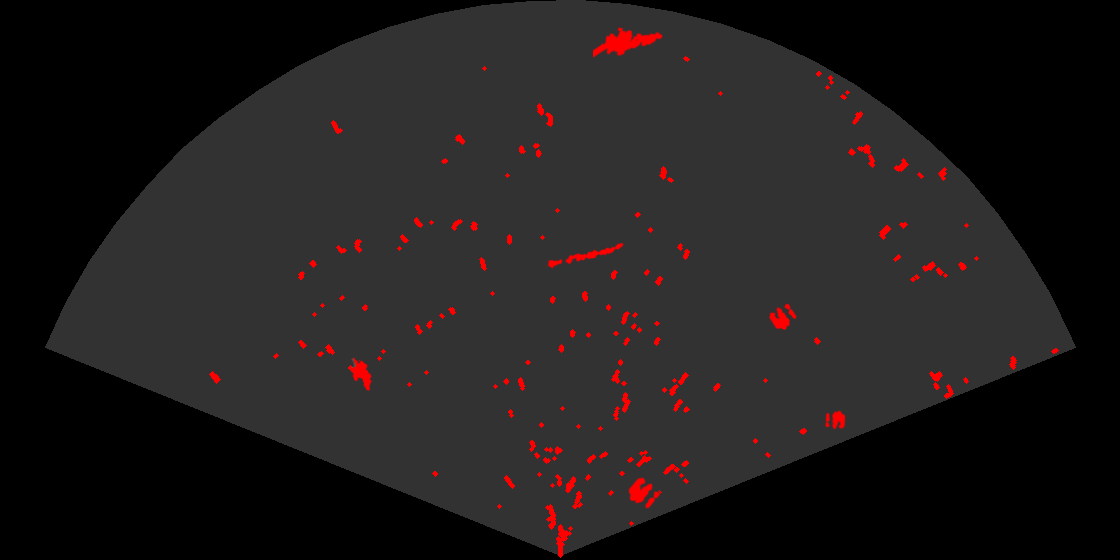AUV: (349, 356, 373, 393)
ball: (627, 476, 662, 510), (768, 302, 798, 332), (823, 409, 847, 431)
chain: (544, 241, 626, 270)
frogman: (593, 26, 664, 59)
